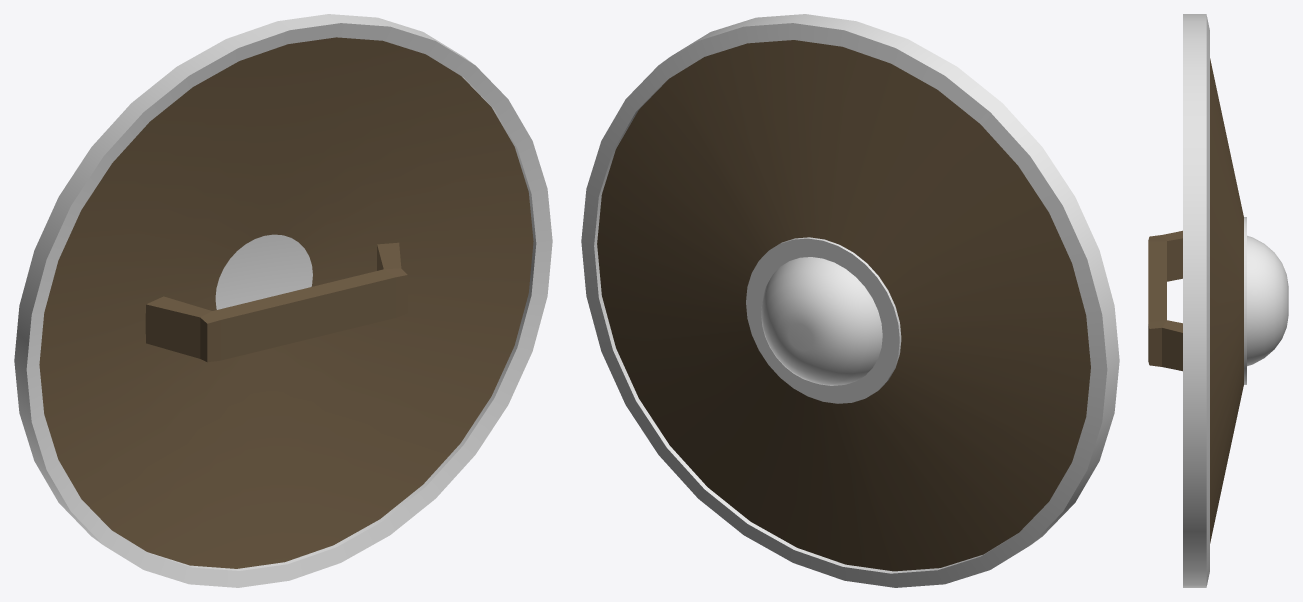
Rendered from wooden_round_shield.gltf.
The picture shows the model from 3 angles, left to right: view 1: azimuth 30°, elevation 25°; view 2: azimuth 150°, elevation 25°; view 3: azimuth 270°, elevation 25°; orthographic projection. The views are drawn at different scales.
Parts seen in each view (by area): view 1: Circle; view 2: Circle; view 3: Circle.
Part boxes in pixels (x1=…): Circle: x1=14, y1=14, x2=552, y2=587; Circle: x1=581, y1=14, x2=1119, y2=587; Circle: x1=1148, y1=14, x2=1288, y2=587.
Bounding box in the file's own units: 0.369 × 0.369 × 0.0902.
